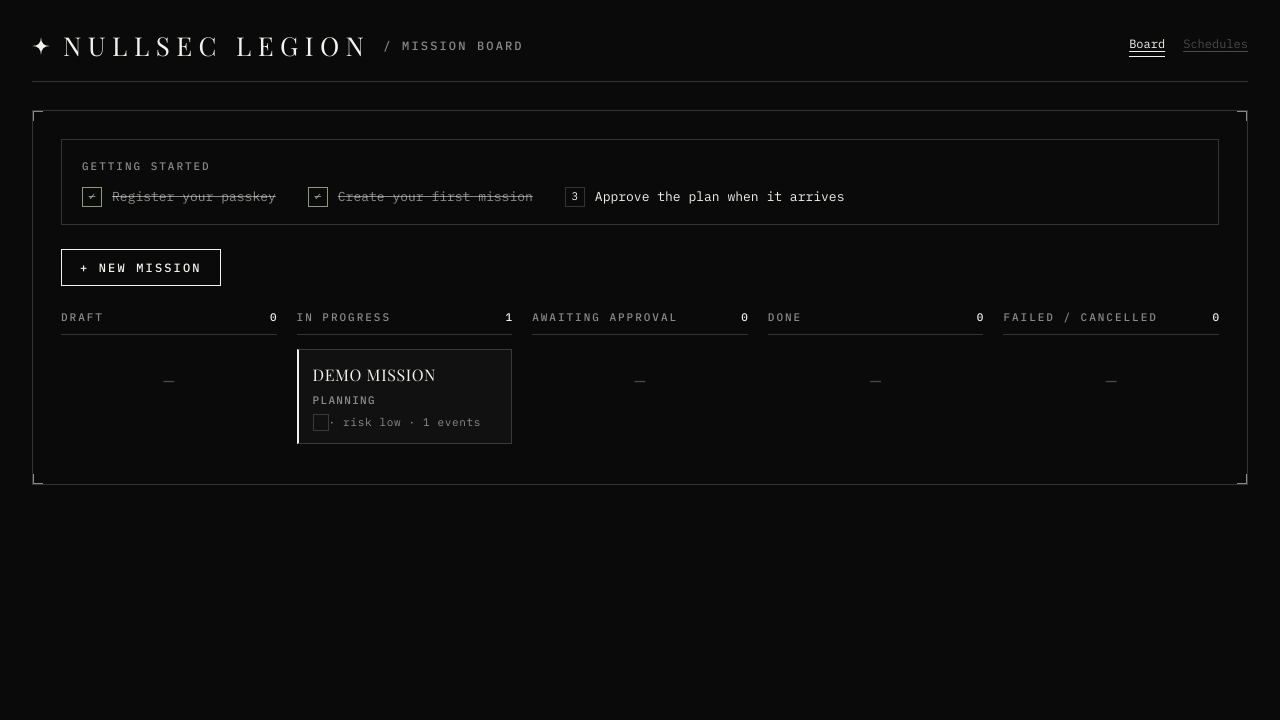
Test: M5.5 operator UX › a live planner replaces the button with a status line — nothing to 409
Step 1. Click the button "Demo mission PLANNING · risk low · 1 events" → (404, 396), box [297,349,512,444]
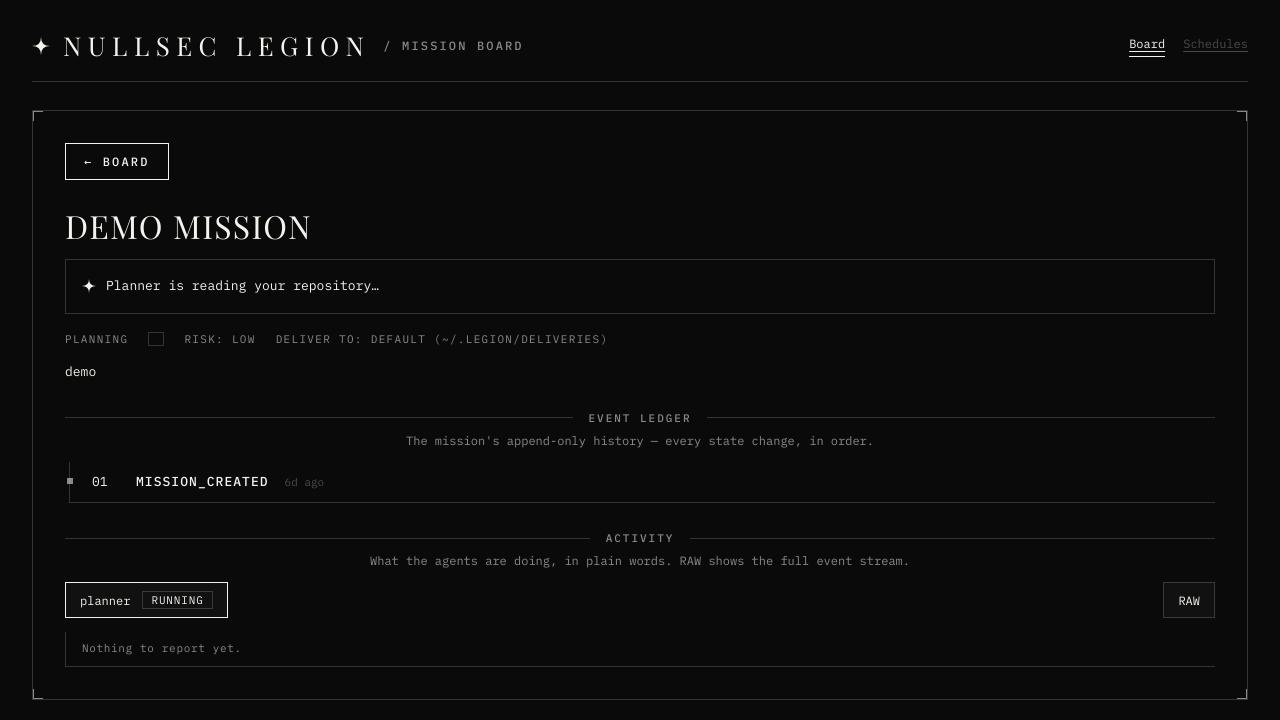
Check: the element with class "action-bar" shows "Planner is reading your repository", box [106,277,379,294]
